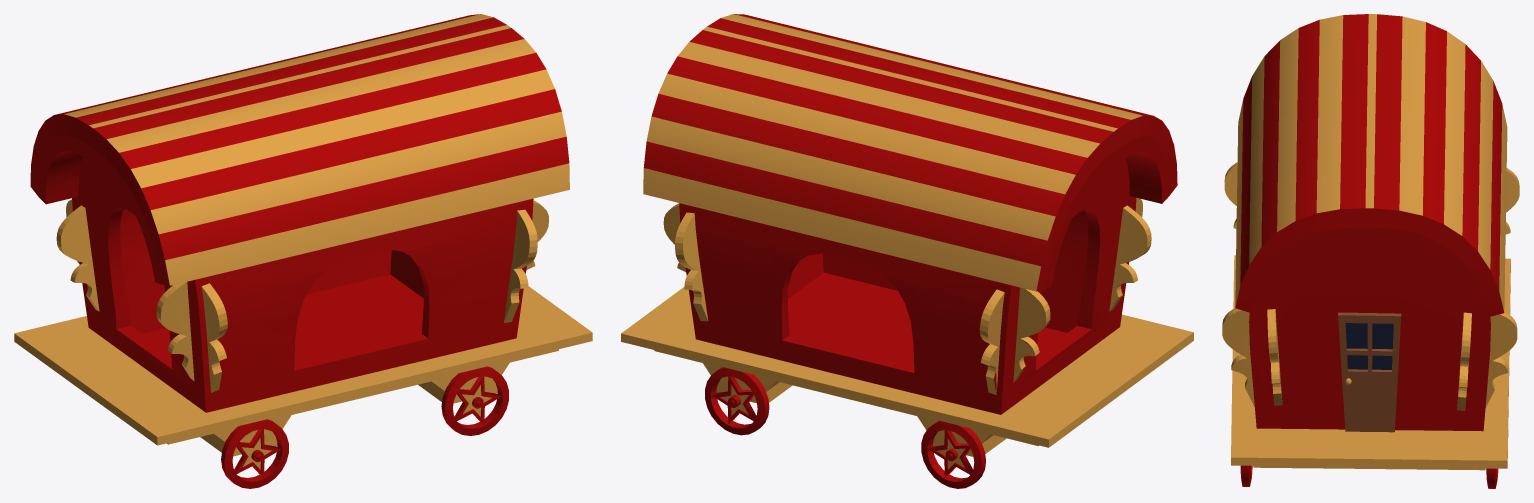
Rendered from F_Trailer_02.fbx.
3 renders of one model, left to right at view 1: azimuth 30°, elevation 25°; view 2: azimuth 150°, elevation 25°; view 3: azimuth 270°, elevation 25°, orthographic. The views are drawn at different scales.
Parts seen in each view (by area): view 1: F_Trailer_02; view 2: F_Trailer_02; view 3: F_Trailer_02.
Boxes of the visible parts, x1,y1,x2,y2 form: F_Trailer_02: (14,14,592,488); F_Trailer_02: (621,14,1193,488); F_Trailer_02: (1222,14,1519,488).
Bounding box in the file's own units: 622 × 462 × 386.
